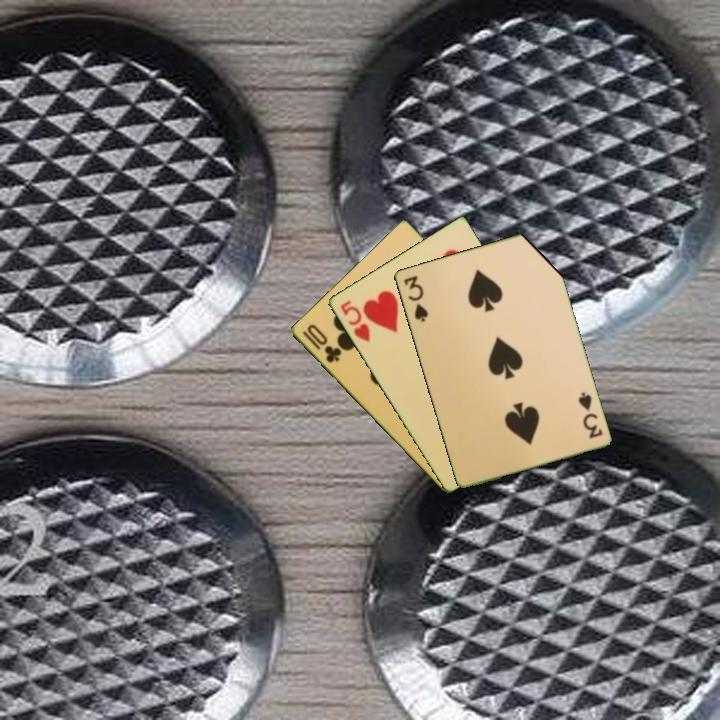10c: (299, 321, 344, 366)
3s: (400, 272, 431, 325), (574, 388, 605, 441)
5h: (336, 296, 373, 345)
